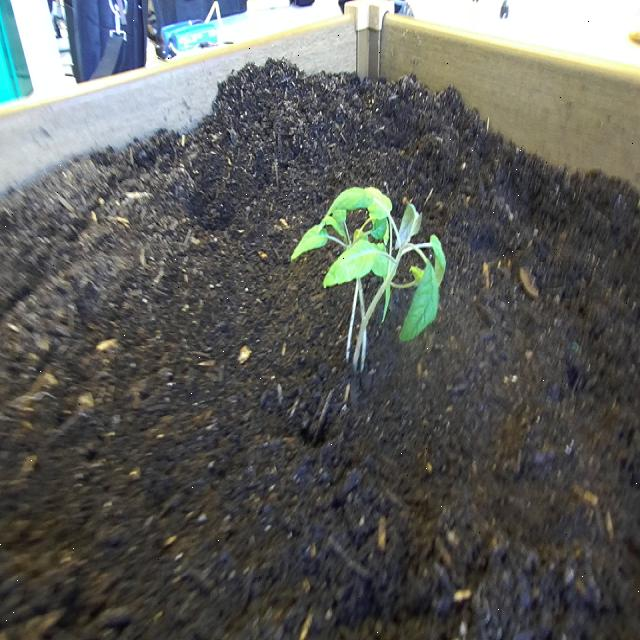Healthy: (288, 178, 456, 385)
